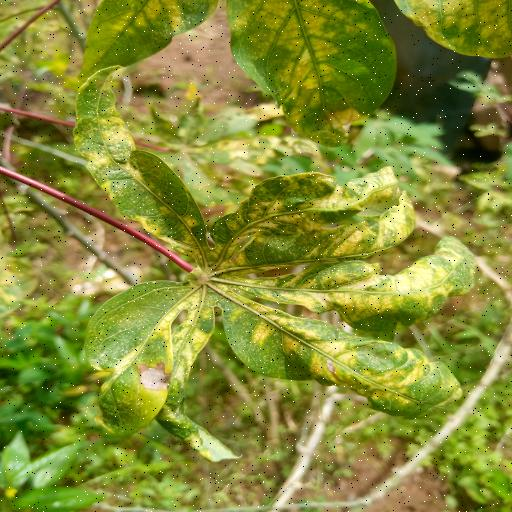Cassava_Mosaic: (66, 64, 482, 462), (71, 0, 512, 147)
